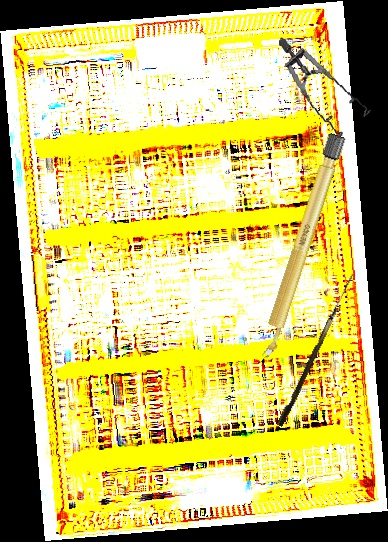Hook Surgical: (276, 270, 354, 429)
Scalpel Handle: (255, 132, 347, 361)
Speculum: (278, 26, 375, 146)
